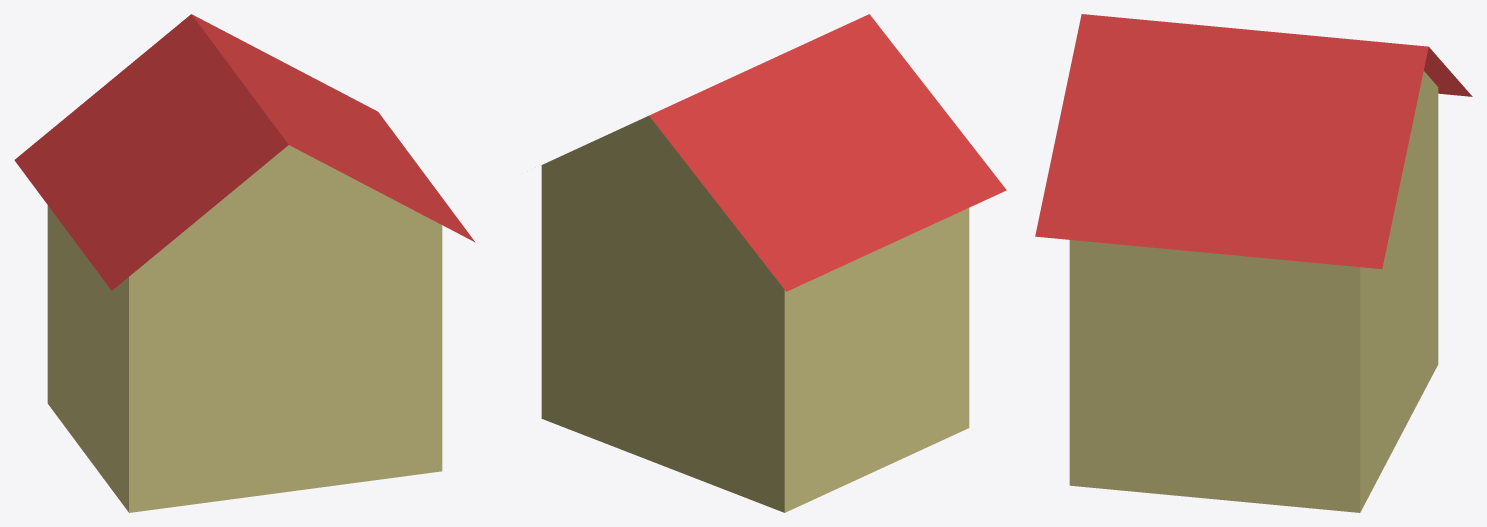
The picture shows the model from 3 angles, left to right: view 1: azimuth 30°, elevation 25°; view 2: azimuth 150°, elevation 25°; view 3: azimuth 270°, elevation 25°; orthographic projection. The views are drawn at different scales.
Size of the model in its own units: 12.5 by 11.29 by 11.17.
